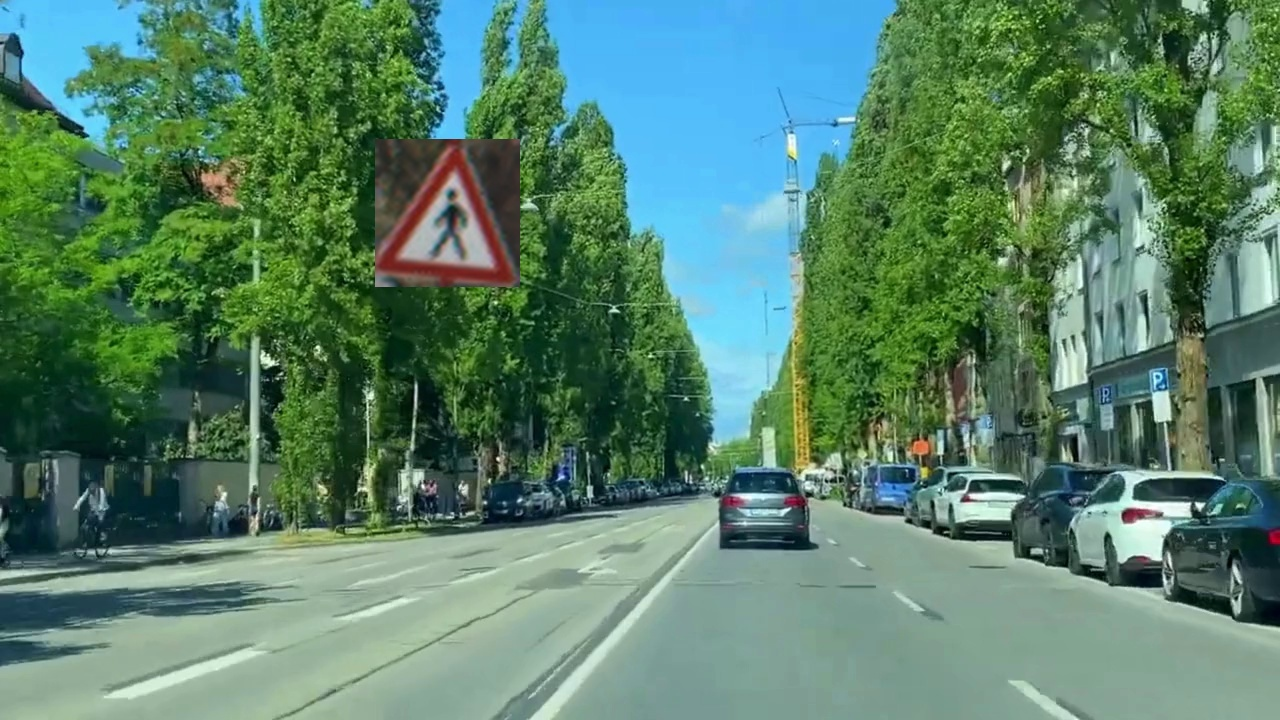Pedestrians: (375, 139, 520, 287)
